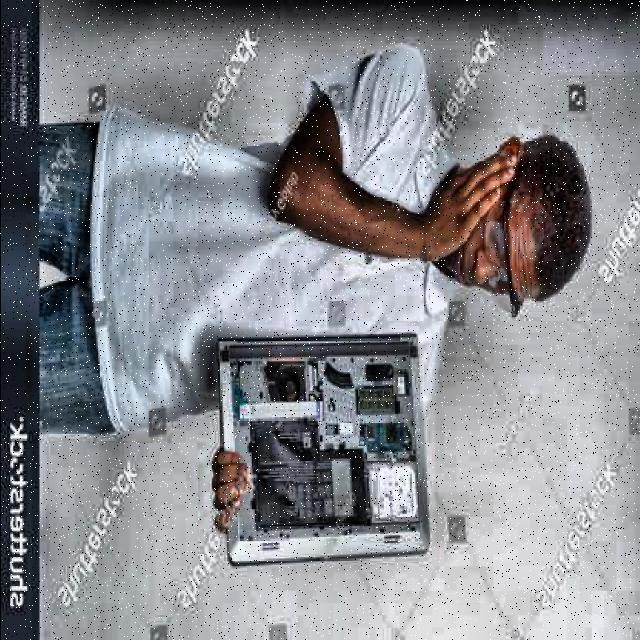Goggles: (468, 153, 537, 350)
